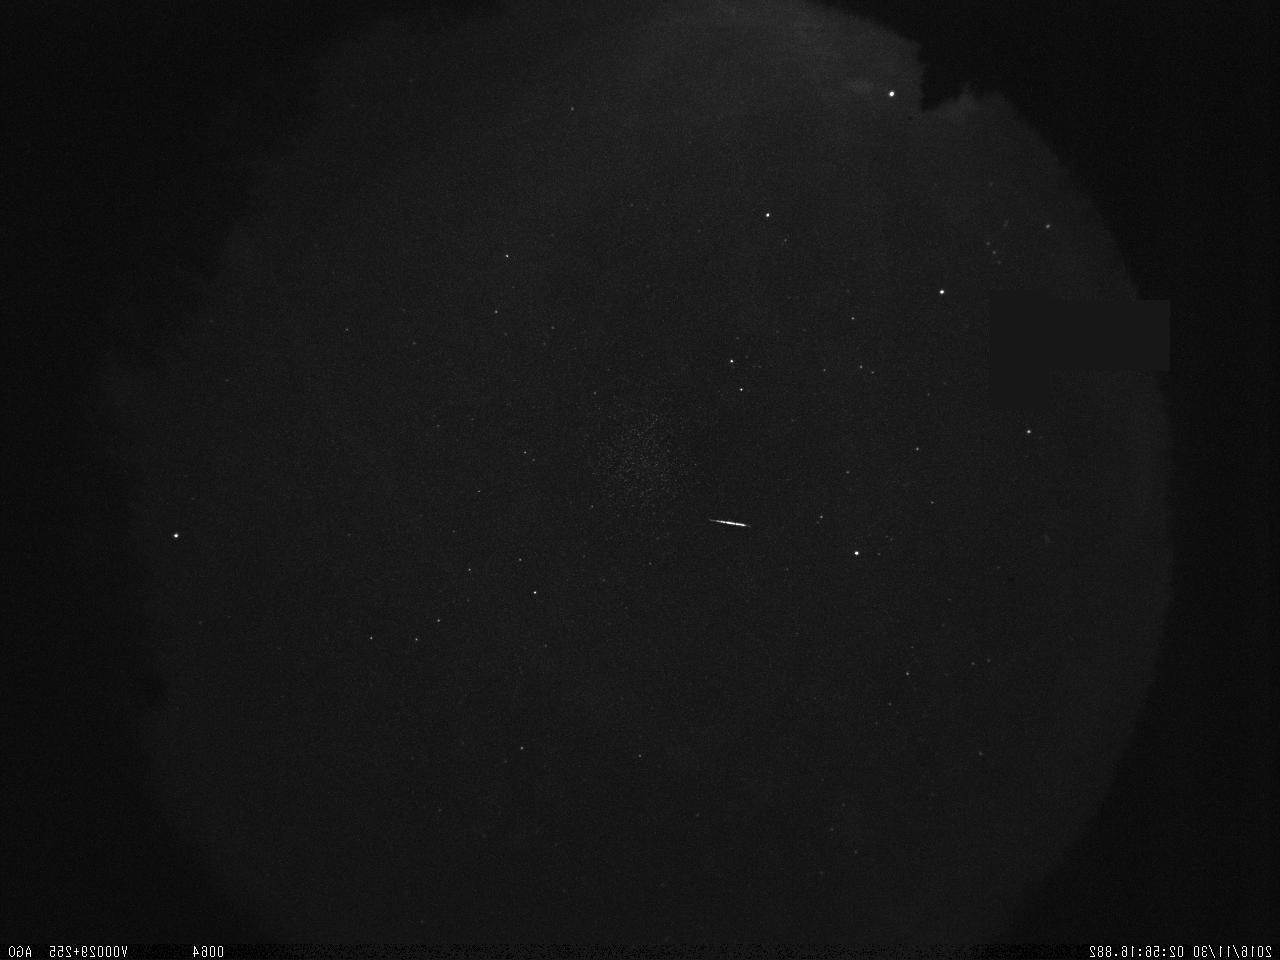meteor: (693, 505, 762, 549)
